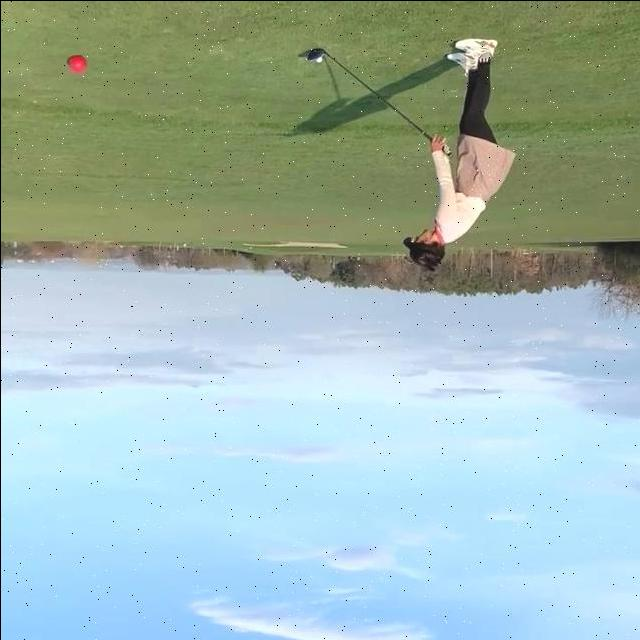golf ball: (315, 56, 321, 61)
golf club-handle: (303, 44, 452, 157)
golf club-head: (305, 46, 324, 59)
